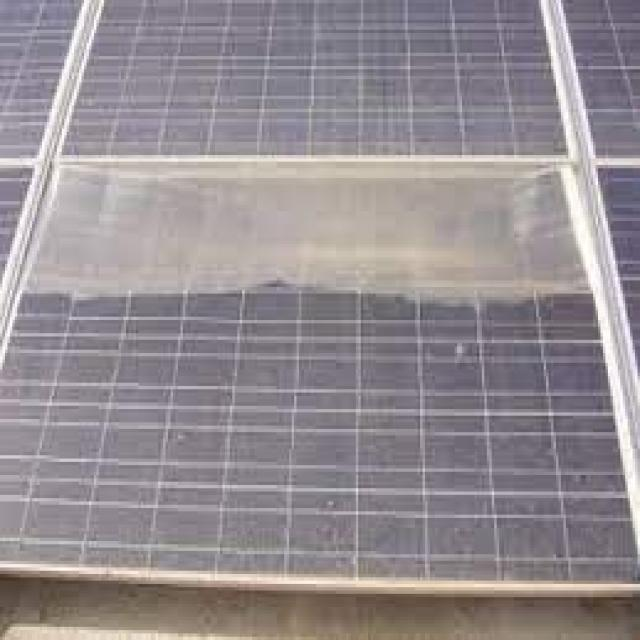faulty: (30, 143, 638, 572)
